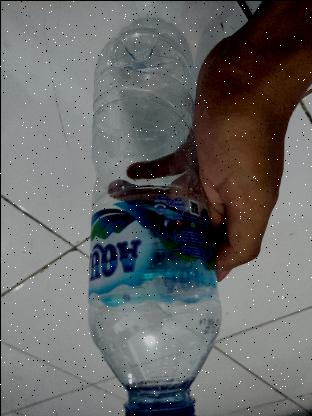Plastic Bottle: (83, 23, 221, 416)
